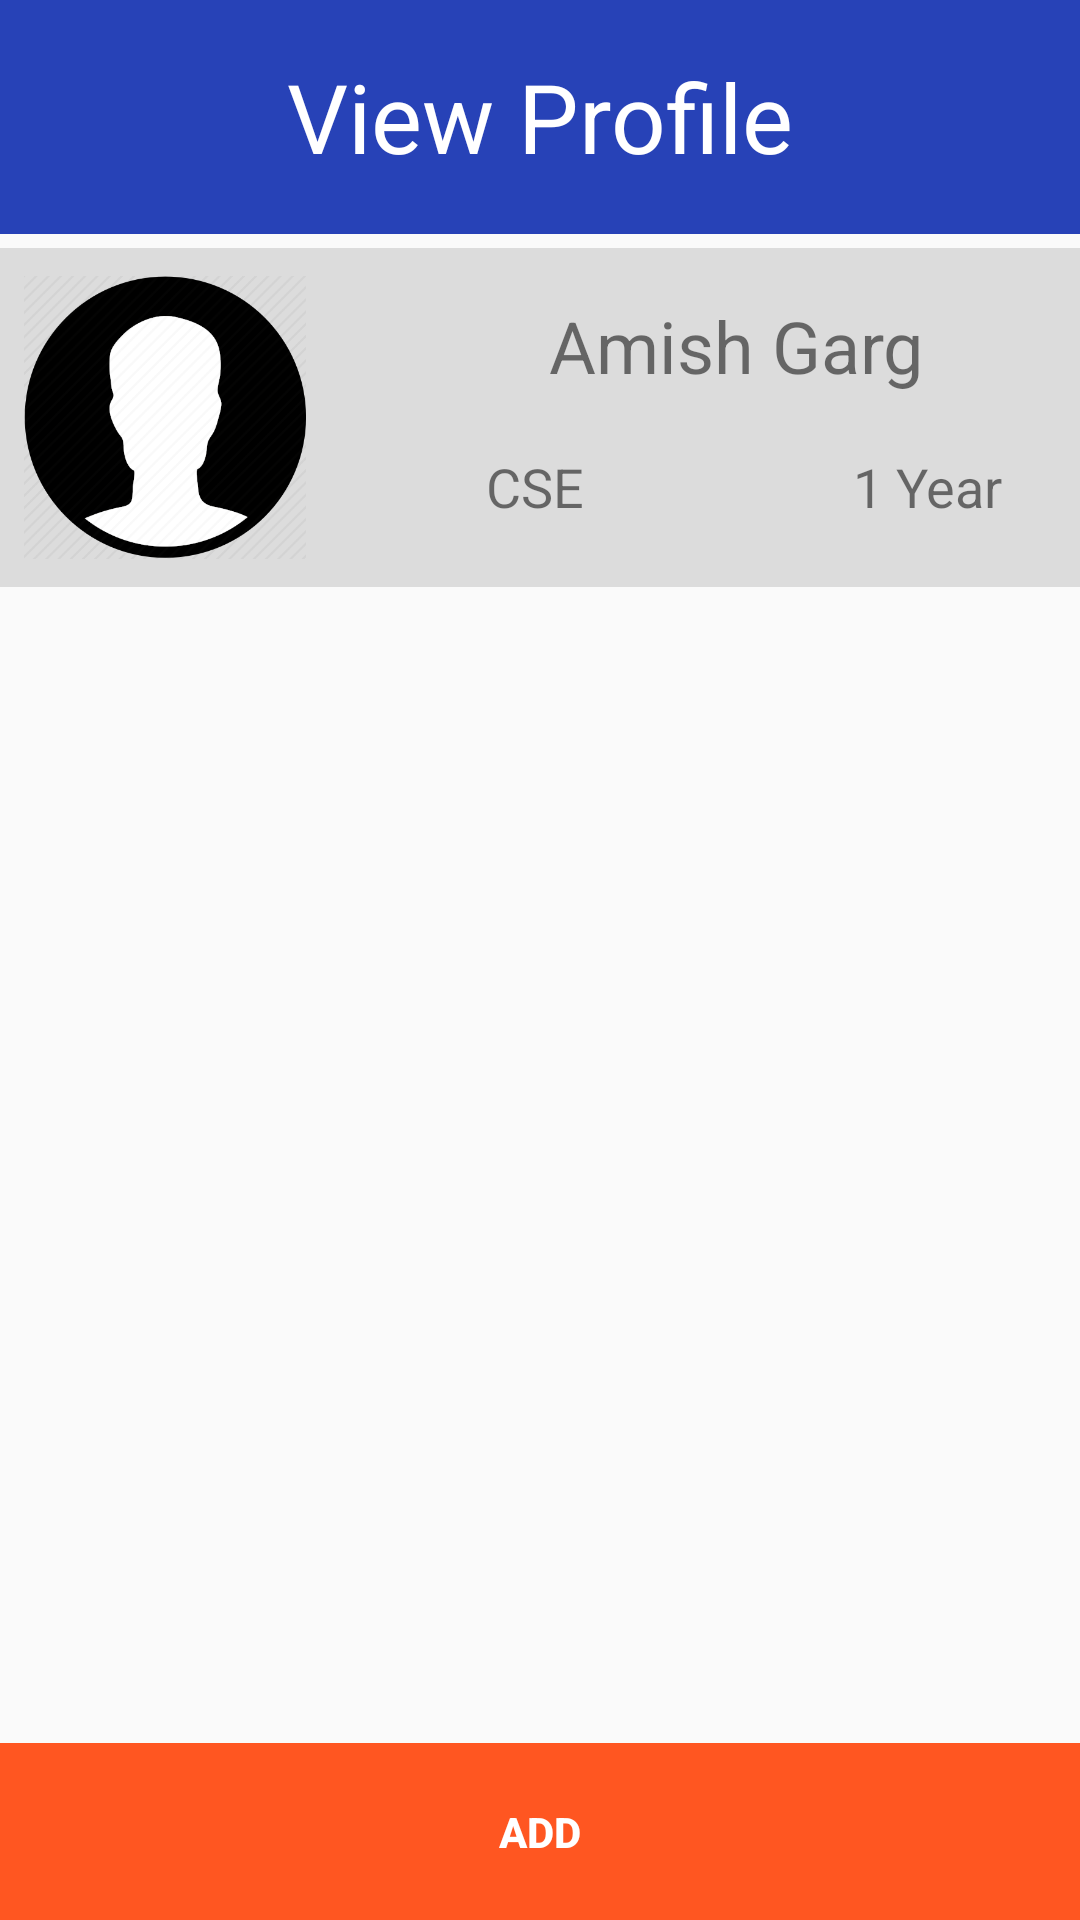

Icon click points for this 1080 × 1920 phone screenshot, format (x,y):
user: (165,417)
